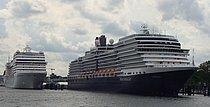Ship: (66, 21, 203, 103), (3, 42, 50, 94)
